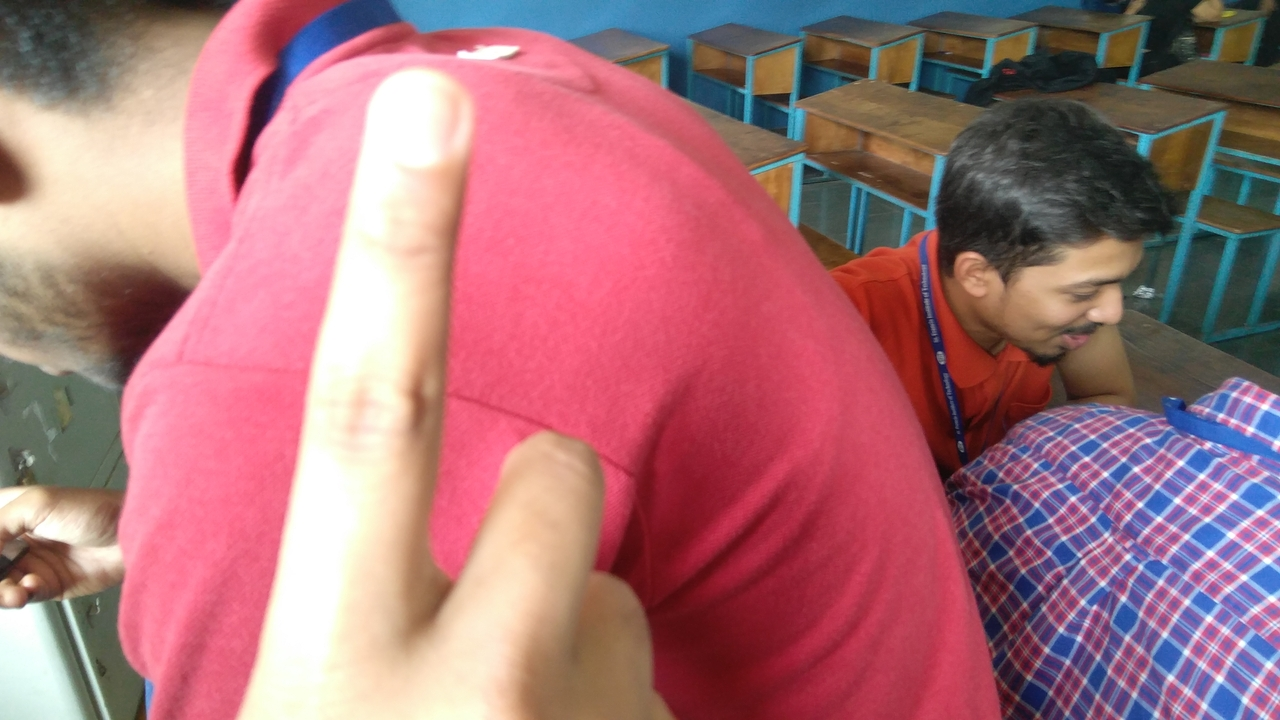fingertip: (362, 64, 479, 165)
